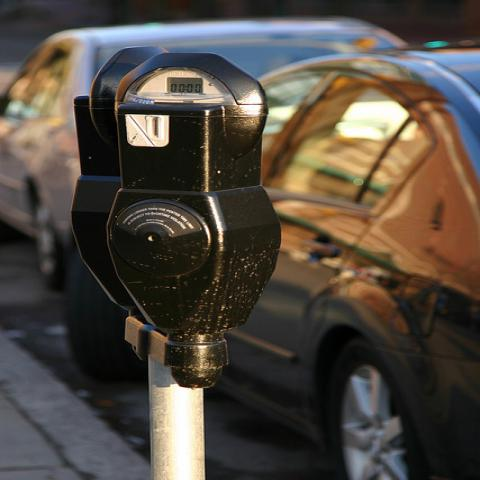car: (1, 16, 416, 288), (218, 47, 479, 475)
